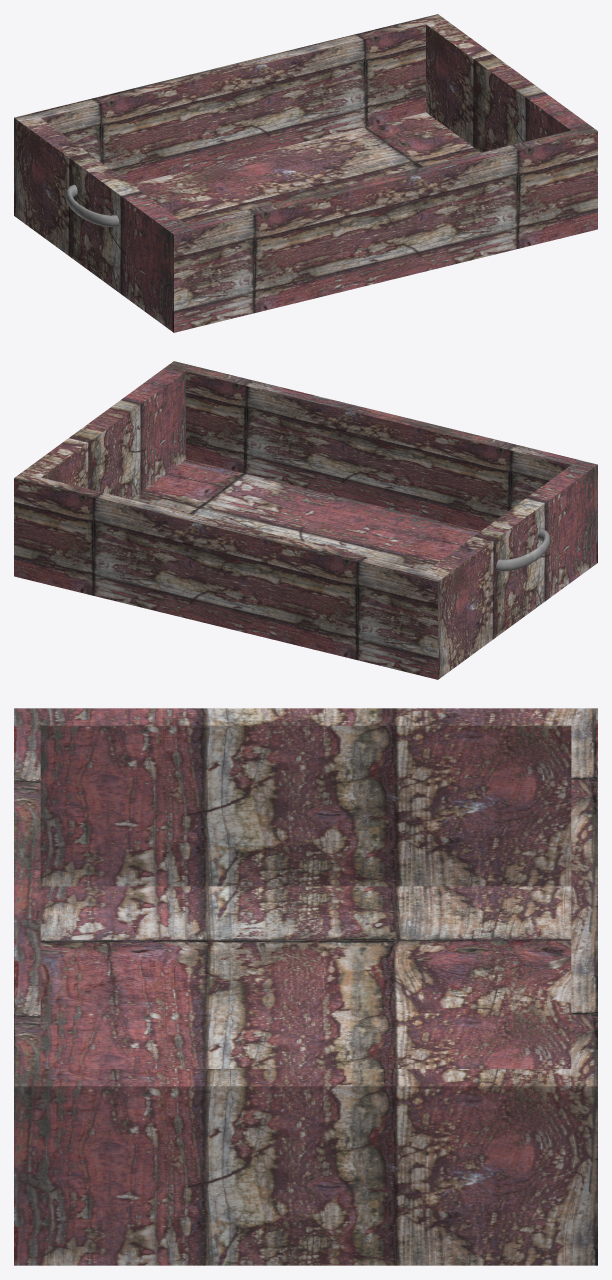
Rendered from CajonGrande.obj.
The picture shows the model from 3 angles, top to bottom: view 1: azimuth 30°, elevation 25°; view 2: azimuth 150°, elevation 25°; view 3: azimuth 270°, elevation 25°; orthographic projection. The views are drawn at different scales.
Parts seen in each view (by area): view 1: CajonGrande2:polySurface33; view 2: CajonGrande2:polySurface33; view 3: CajonGrande2:polySurface33.
Boxes of the visible parts, x1,y1,x2,y2 form: CajonGrande2:polySurface33: [14, 14, 597, 332]; CajonGrande2:polySurface33: [14, 361, 597, 679]; CajonGrande2:polySurface33: [14, 708, 597, 1265].
Size of the model in its own units: 4.62 by 0.978 by 2.88.
Materials: 2 (2 with a texture image).
